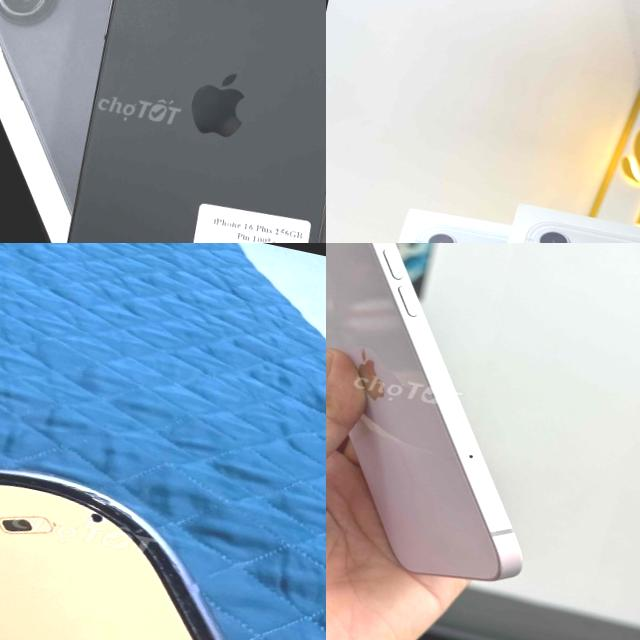gen_14: (326, 243, 622, 613)
gen_16: (21, 0, 326, 243)
gen_17: (0, 410, 326, 640)
